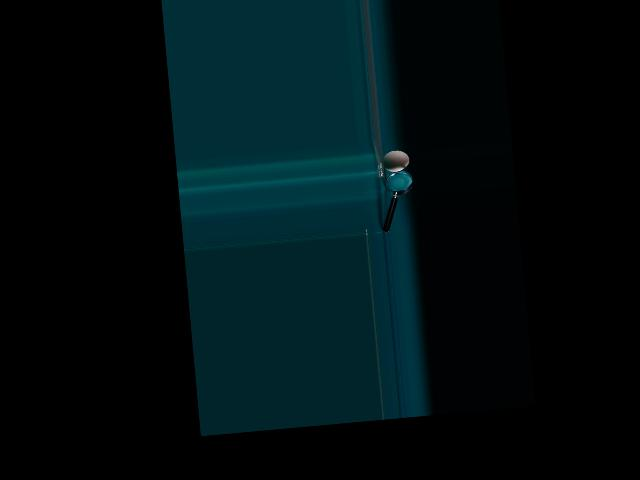egg: (381, 148, 410, 172)
